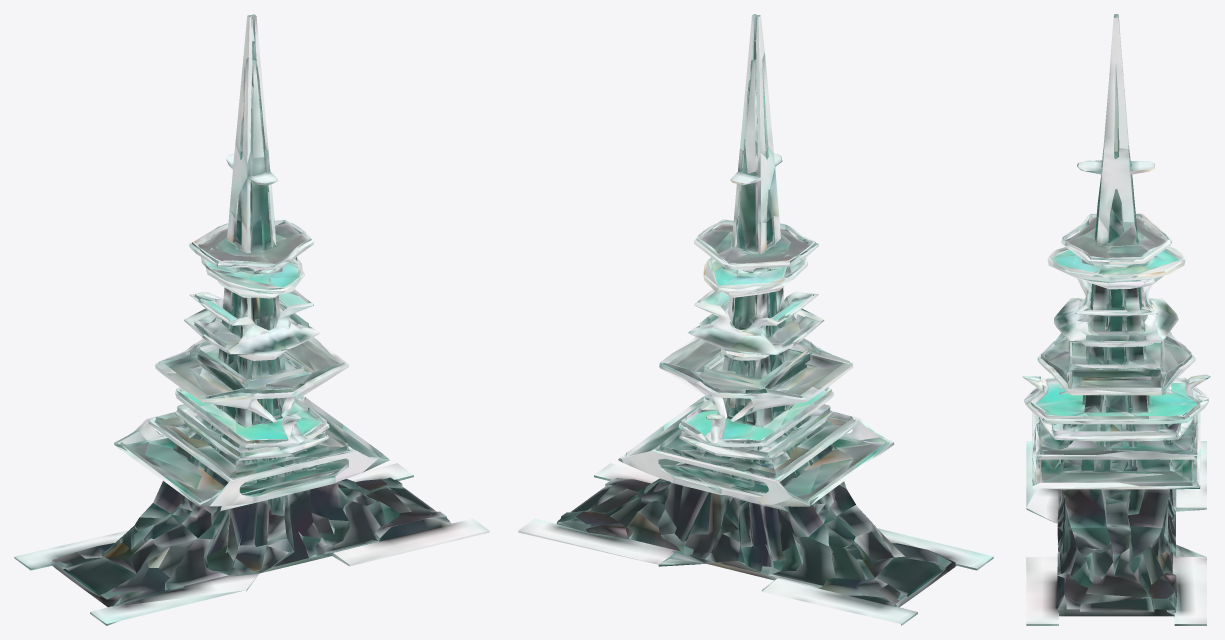
Rendered from bld-sea-terrace-spire-lod2.glb.
3 renders of one model, left to right at view 1: azimuth 30°, elevation 25°; view 2: azimuth 150°, elevation 25°; view 3: azimuth 270°, elevation 25°, orthographic. The views are drawn at different scales.
Visible parts, largest first — view 1: Mesh_0; view 2: Mesh_0; view 3: Mesh_0.
Part boxes in pixels (x1,y1,x2,y2): Mesh_0: [14, 14, 489, 625]; Mesh_0: [518, 14, 993, 625]; Mesh_0: [1022, 14, 1210, 625].
Bounding box in the file's own units: 1.43 × 1.9 × 0.624.
1 material, 1 textured.
